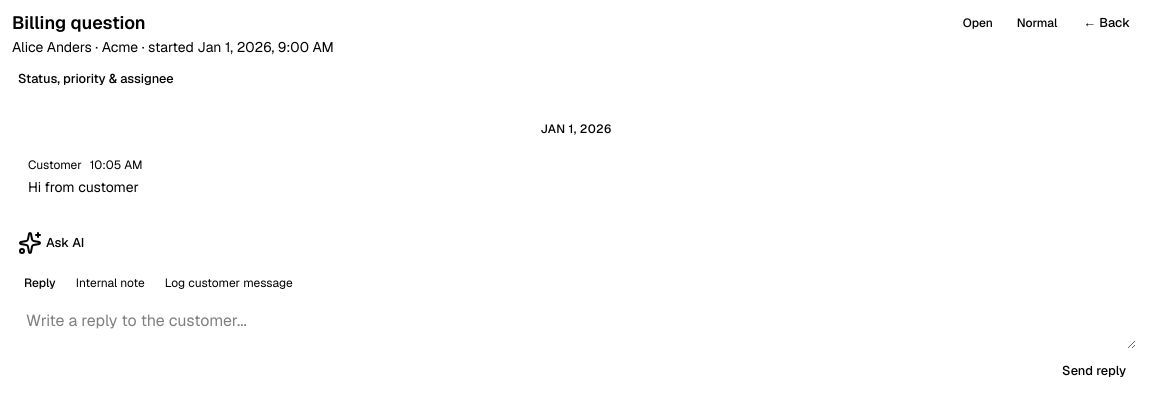
Test: ConversationPane › AI suggestion in the single compose box › a failed AI request leaves the box untouched and creates no message
This screenshot has width=1152, height=420.
Step 1. Type "my own text" into the text box → (576, 325), box [16,301,1136,349]
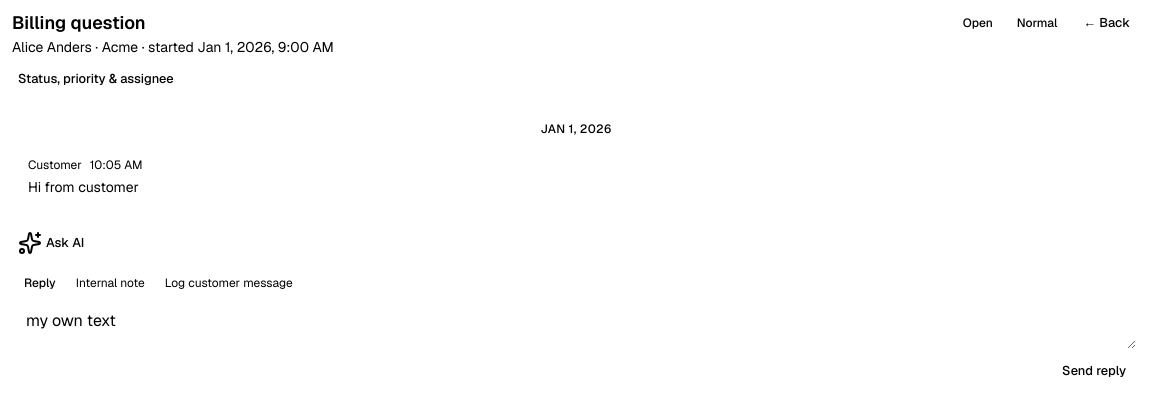
Step 2. Click the button "Ask AI" → click(51, 243), box [8,229,94,257]
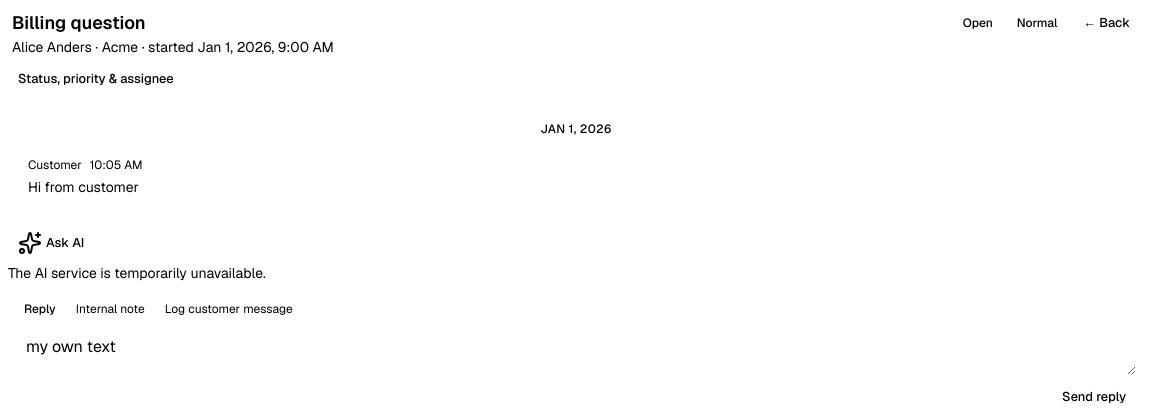
Expected: the message shows "temporarily unavailable", [8,264,266,282]
